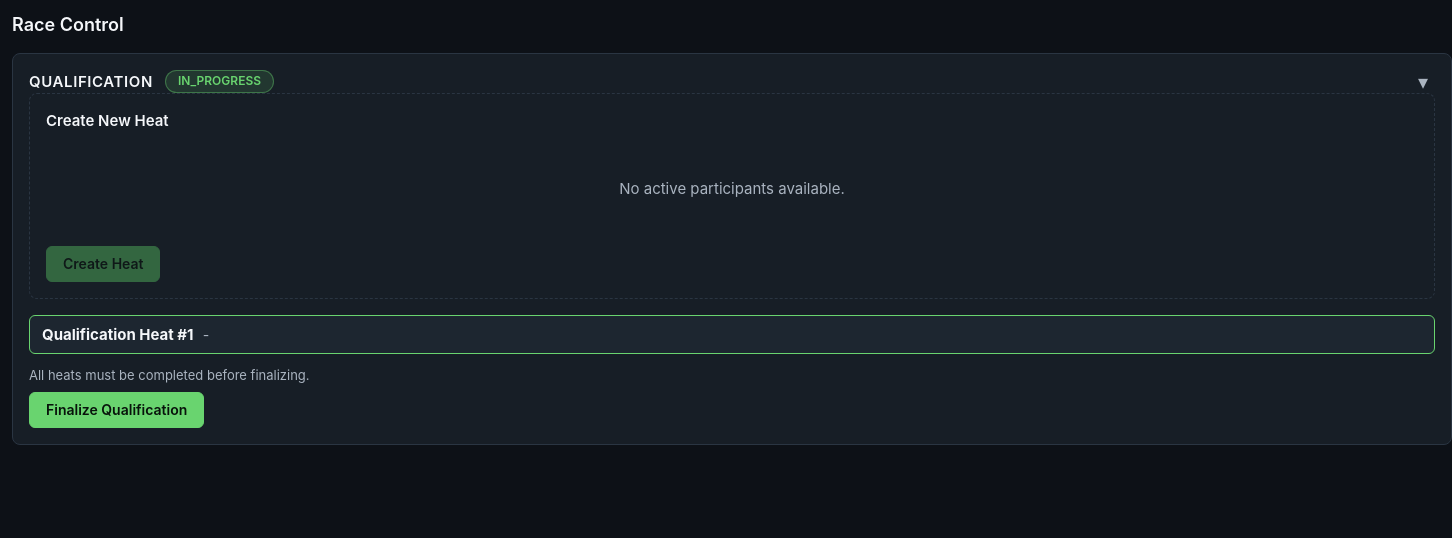
Test: RaceControlComponent › ACCEPTED heat collapses to a summary row and expands on click
Click the button with class "heat-summary". click: (118, 334)
box: [29,315,1435,354]
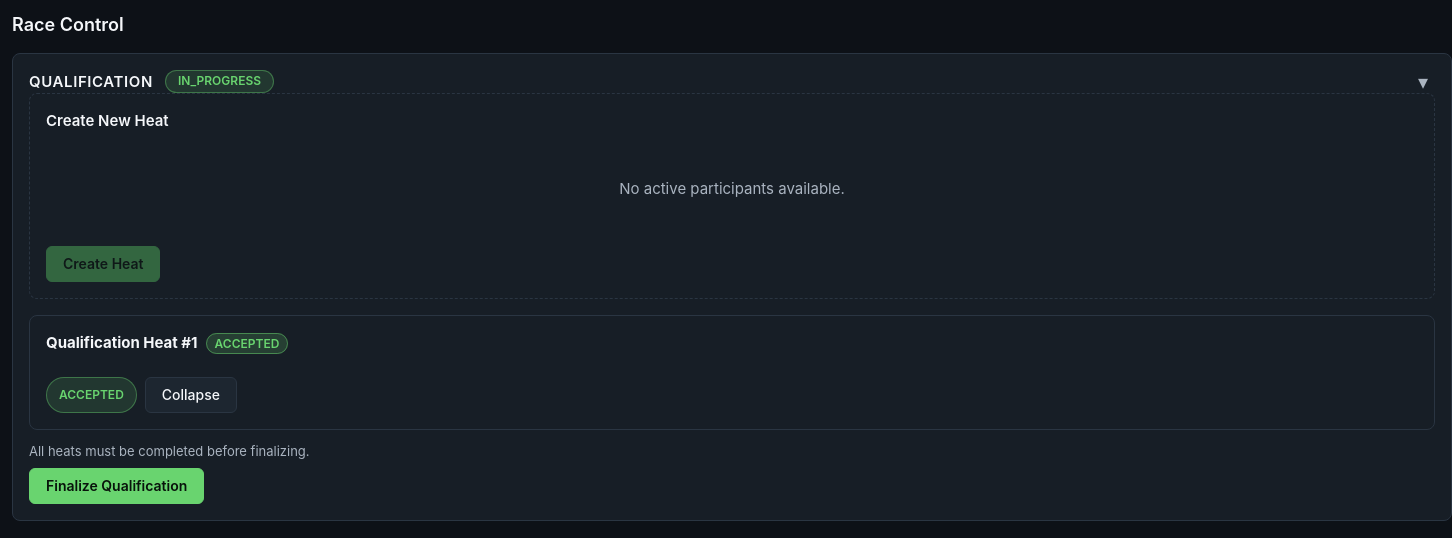
Expected: the element with class "heat-card" is shown, [29,315,1435,430]
Expected: the button with class "heat-summary" is gone
